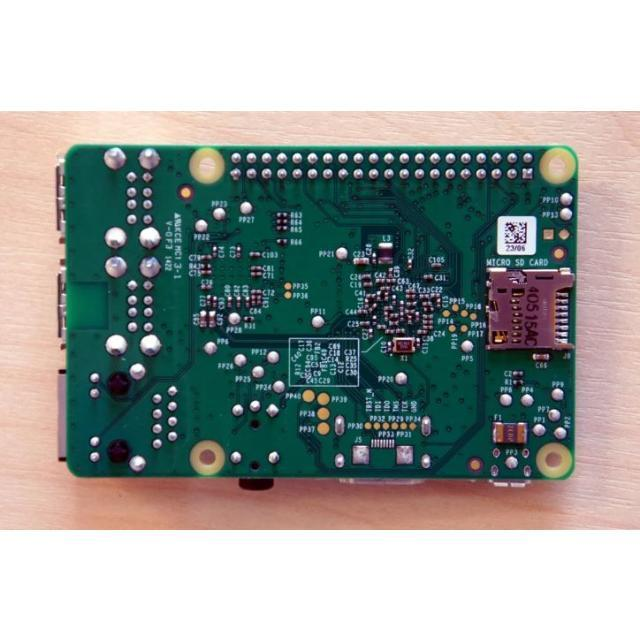Raspberry Pi 1 B-: (58, 143, 579, 489)
